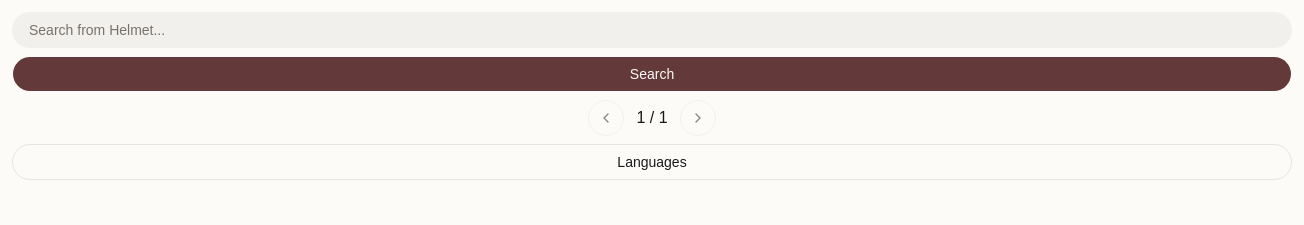
Test: shows error message when search query is empty
Click the button "Search" at (652, 74), box [12,56,1292,92]
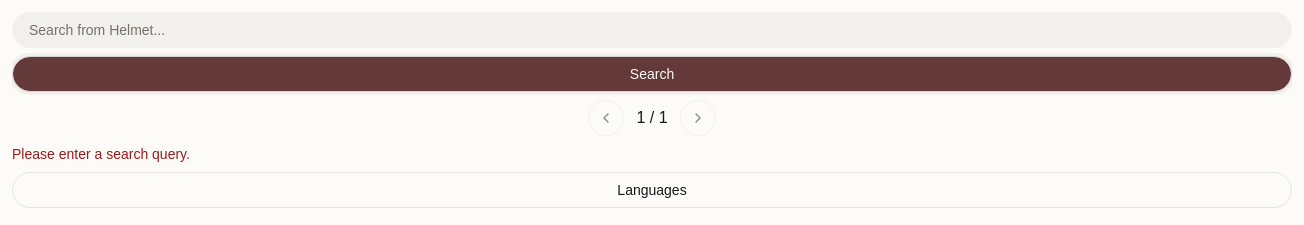
Result: the text "Please enter a search query." is shown at [12,146,190,162]
